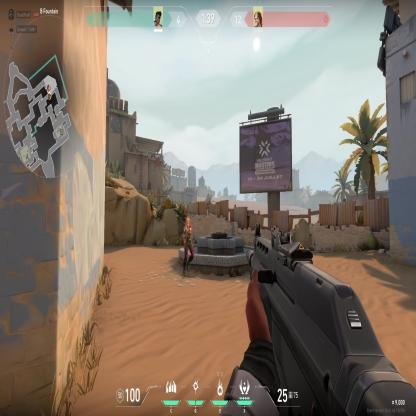enemy: (182, 216, 194, 276)
